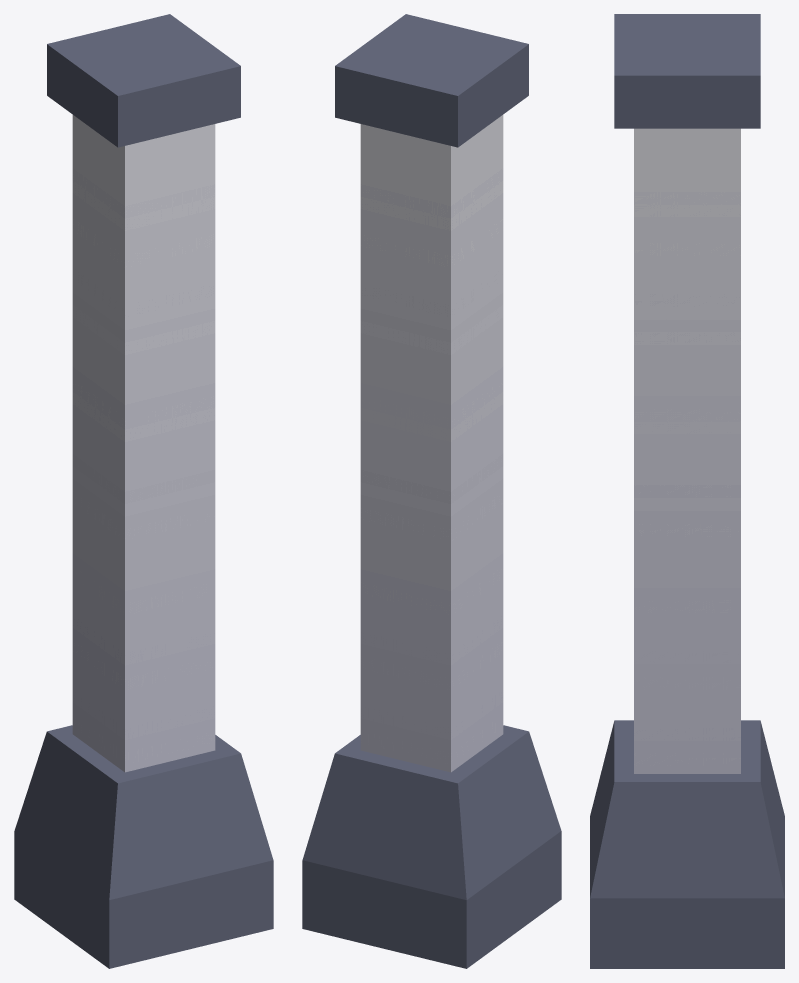
The model's file is bridge-pillar.glb.
3 renders of one model, left to right at view 1: azimuth 30°, elevation 25°; view 2: azimuth 150°, elevation 25°; view 3: azimuth 270°, elevation 25°, orthographic. The views are drawn at different scales.
Visible parts, largest first — view 1: bridge-pillar; view 2: bridge-pillar; view 3: bridge-pillar.
Boxes of the visible parts, x1,y1,x2,y2 form: bridge-pillar: [14, 14, 273, 968]; bridge-pillar: [302, 14, 561, 968]; bridge-pillar: [590, 14, 784, 968].
Size of the model in its own units: 0.1 by 0.5 by 0.1.
1 material, 1 textured.
